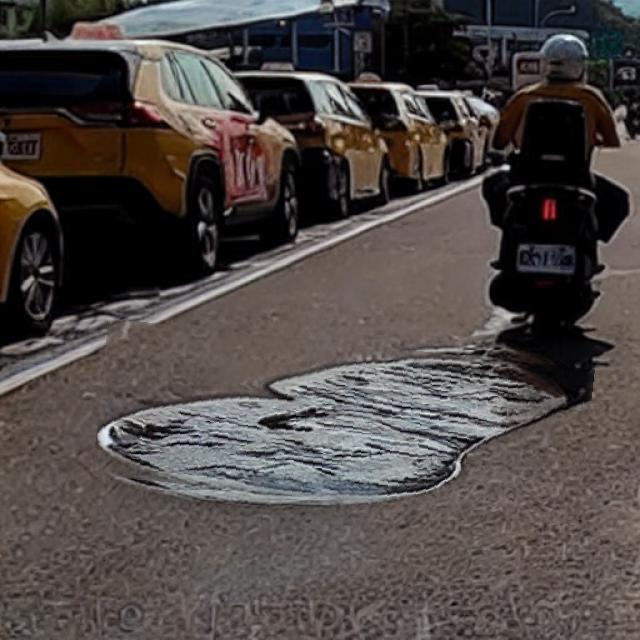puddle: (97, 332, 592, 514)
